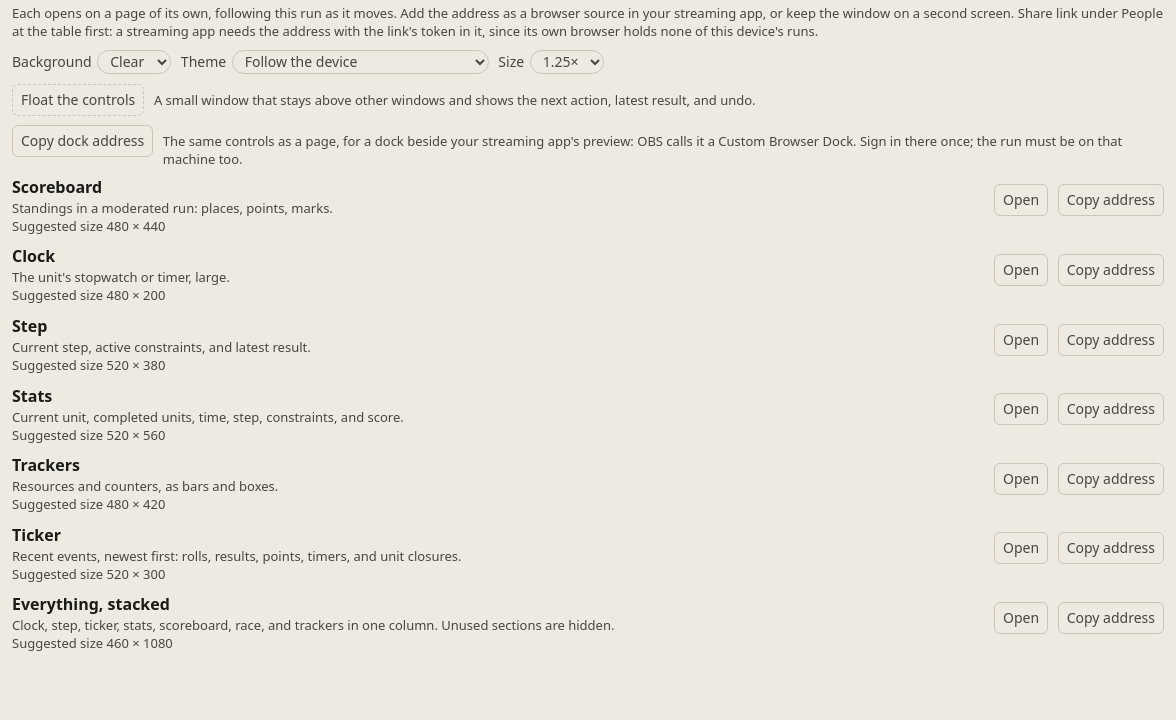
Test: following this device from anywhere › says {"kind":"following"} in plain words
Step 1. Select "Follow this device from anywhere" in the dropdown named "Widget theme" → [360, 62], box top-left (232, 50), bottom-right (489, 74)
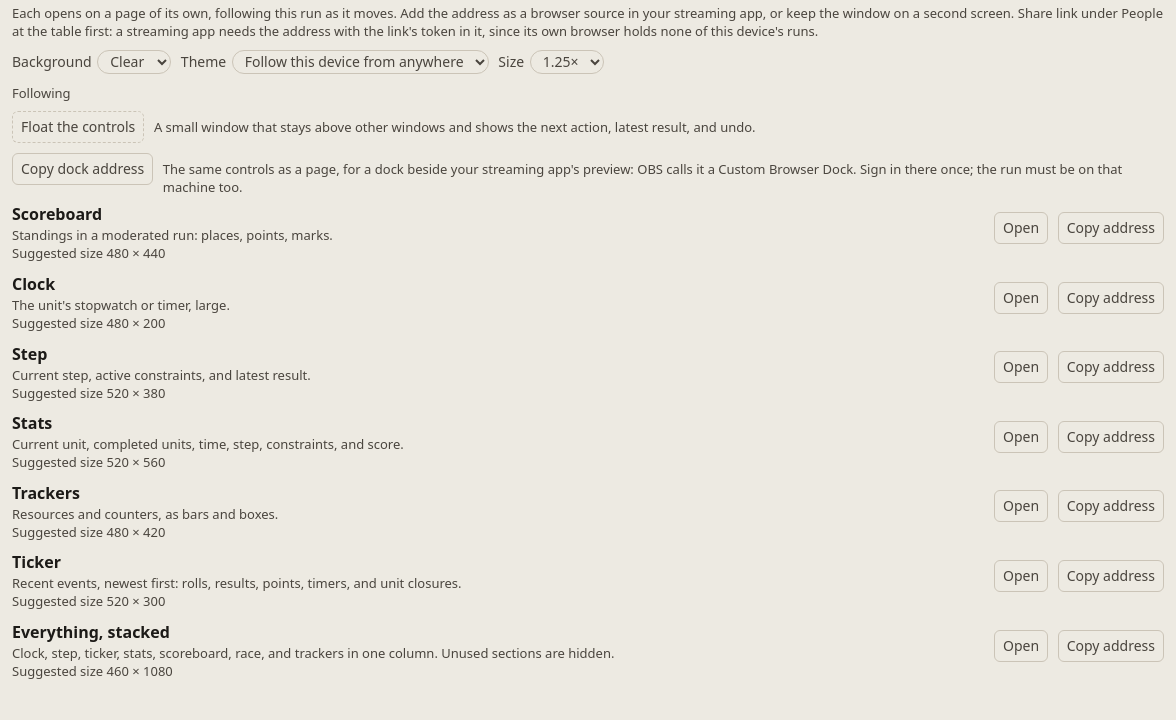
Expected: the text "Following" is shown, top-left (12, 84), bottom-right (70, 102)
